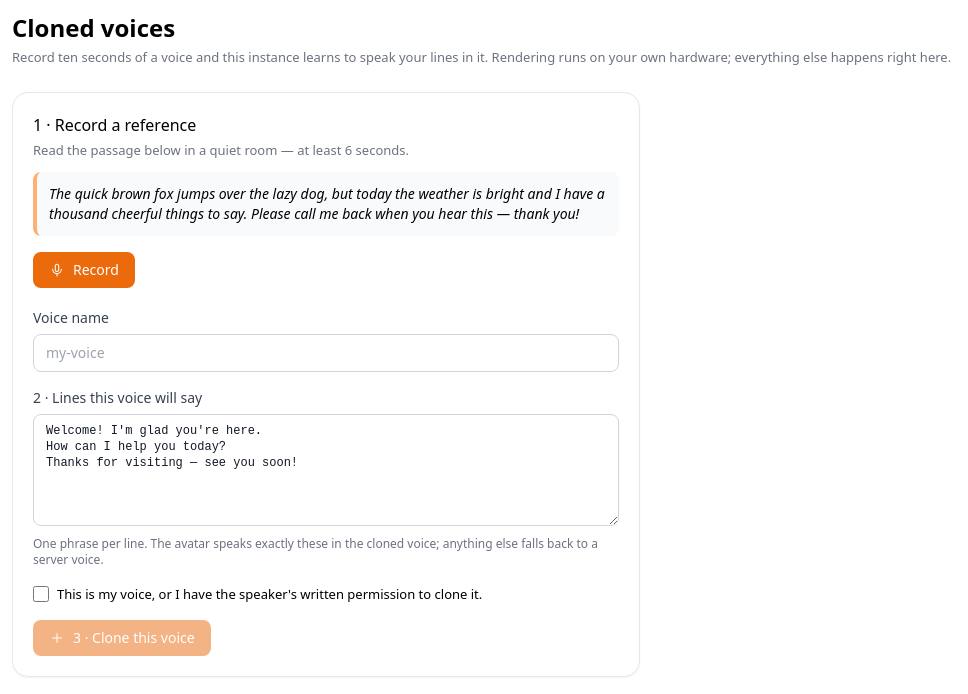
Scenario: VoicesPage › records a voice, then sends it with its name, lines and the speaker's permission
The image size is (968, 694).
Check: the button "3 · Clone this voice" is disabled, box [33,620,211,656]
Step 1. Click the button "Record" → (84, 270), box [33,252,135,288]
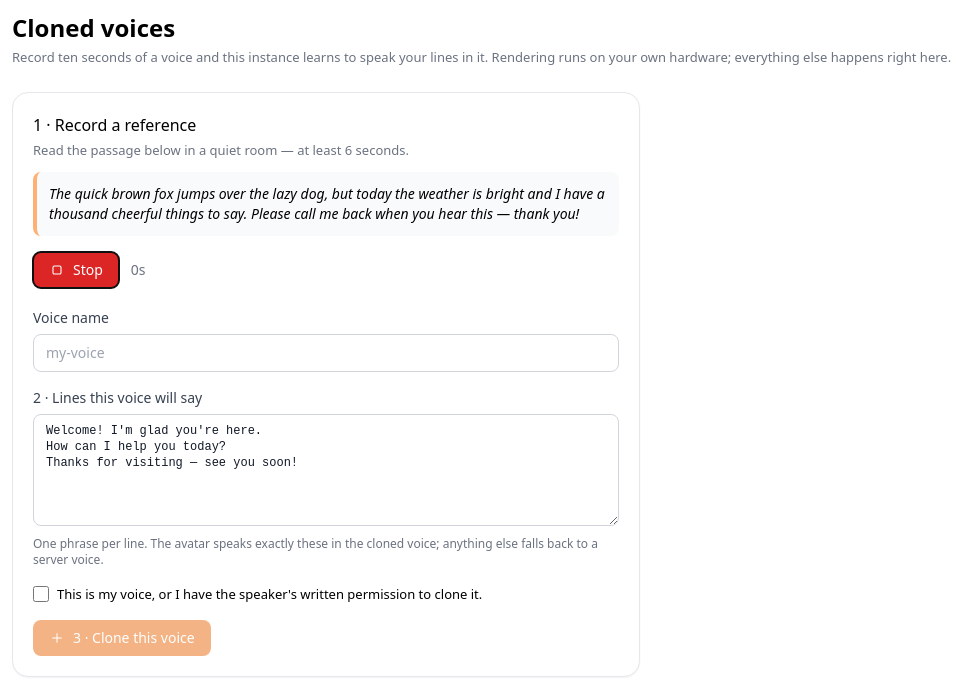
Step 2. Click the button "Stop" → (76, 270), box [33,252,119,288]
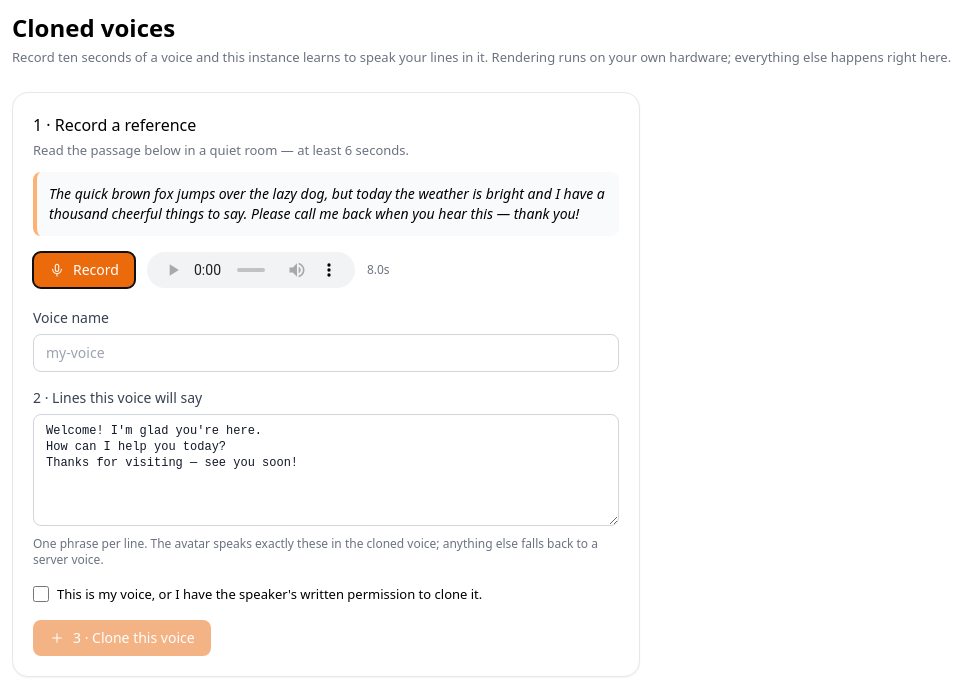
Check: the text "8.0s" is shown, box [367,262,390,278]
Step 3. Type "ana" into the field labelled "Voice name" → (326, 353), box [33,334,619,372]
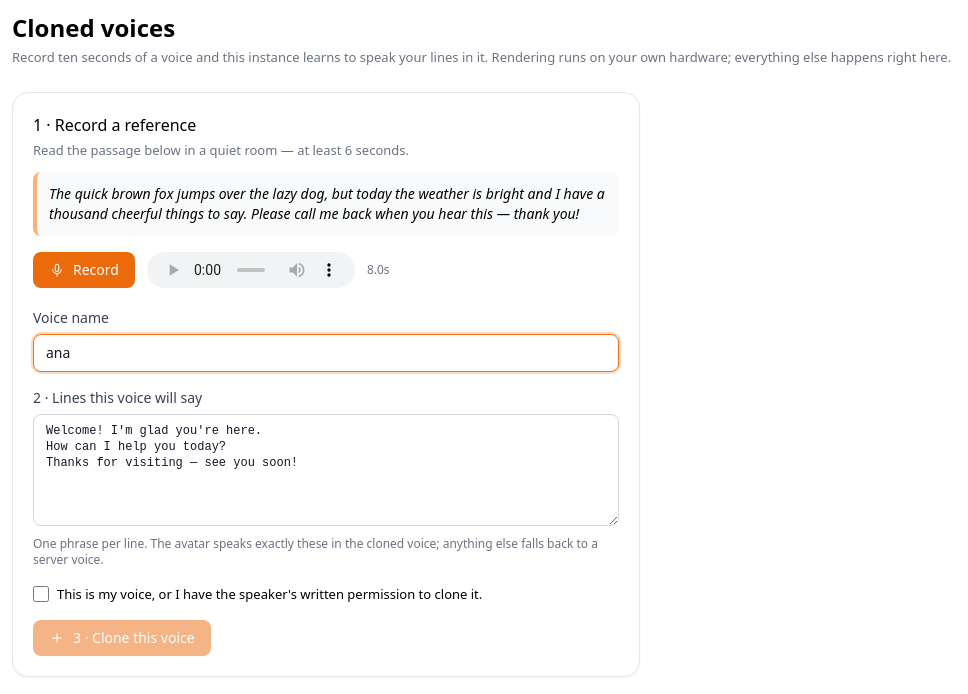
Check: the button "3 · Clone this voice" is disabled, box [33,620,211,656]
Step 4. Click the checkbox labelled "This is my voice, or I have the speaker's written permission to clone it." → (41, 594), box [33,586,49,602]
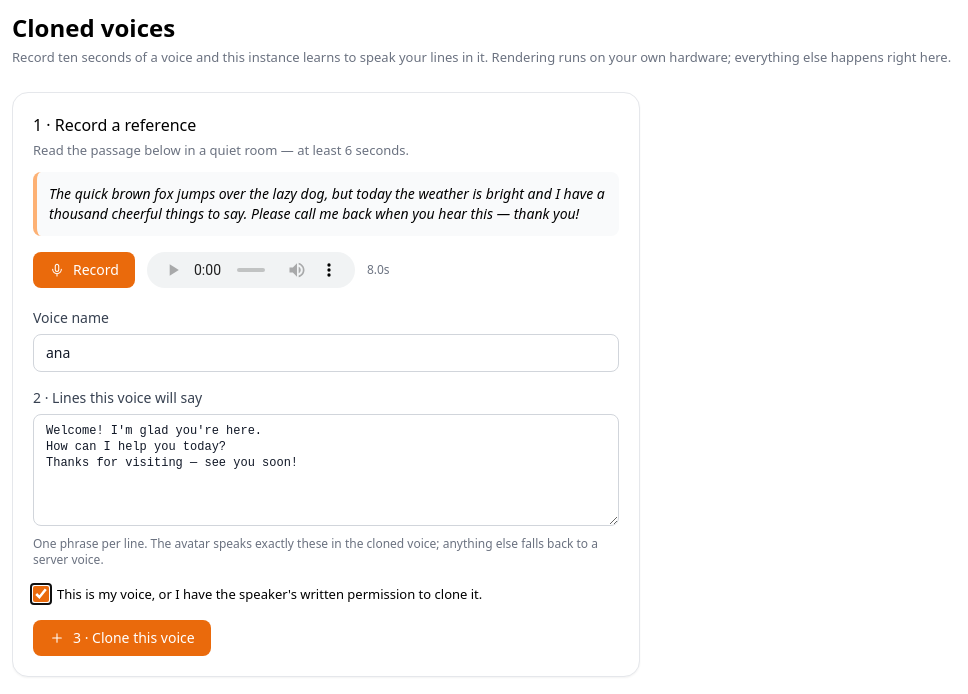
Check: the button "3 · Clone this voice" is enabled
Step 5. Click the button "3 · Clone this voice" → (122, 638), box [33,620,211,656]
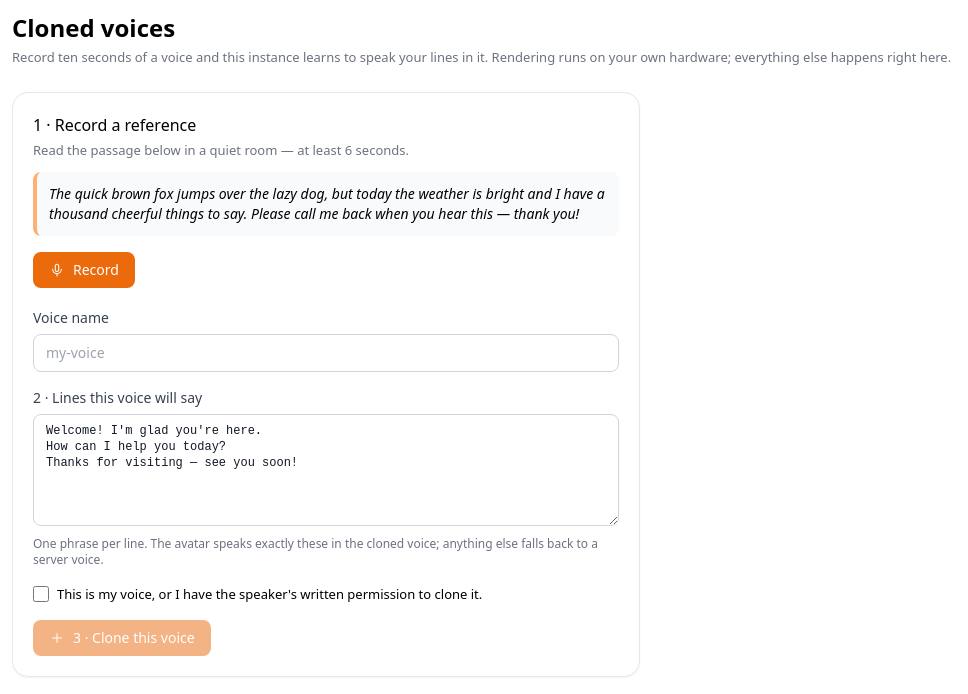
Check: the checkbox labelled "This is my voice, or I have the speaker's written permission to clone it." is not checked, box [33,586,49,602]
Check: the field labelled "Voice name" is empty, box [33,334,619,372]
